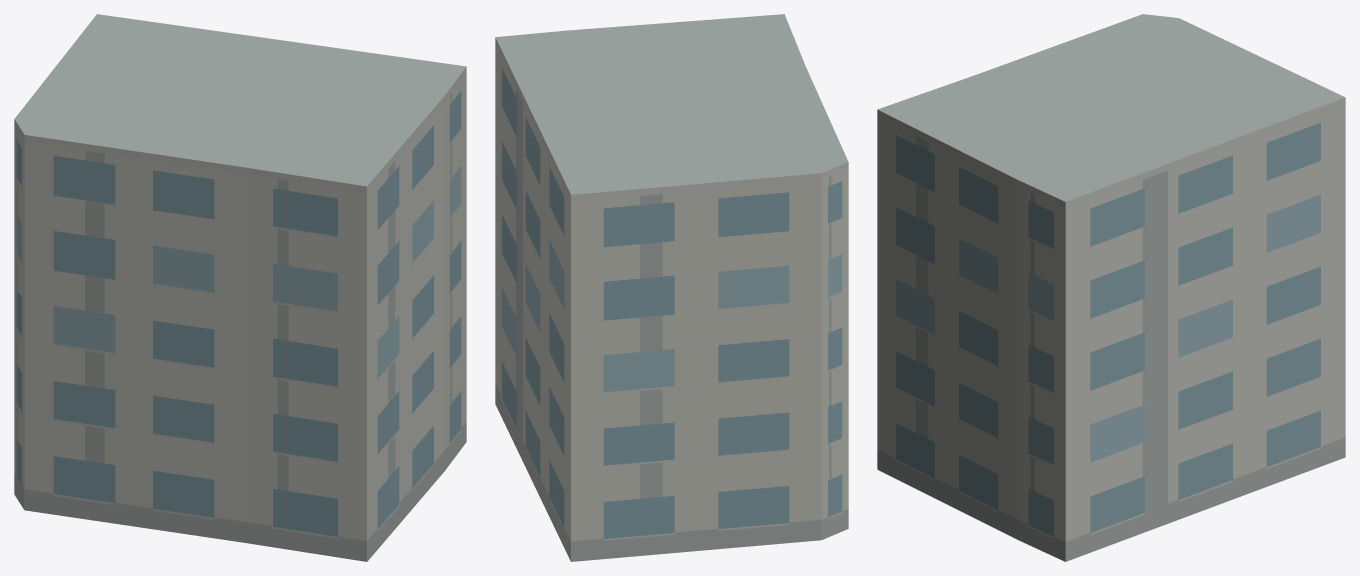
Rendered from survey-upis-32626351.glb.
3 views of the same model, side by side, from view 1: azimuth 30°, elevation 25°; view 2: azimuth 150°, elevation 25°; view 3: azimuth 270°, elevation 25° (orthographic). The views are drawn at different scales.
Parts seen in each view (by area): view 1: survey-upis-32626351.tmp; view 2: survey-upis-32626351.tmp; view 3: survey-upis-32626351.tmp.
Boxes of the visible parts, bbox=[...] form: survey-upis-32626351.tmp: bbox=[14, 14, 466, 561]; survey-upis-32626351.tmp: bbox=[495, 14, 848, 561]; survey-upis-32626351.tmp: bbox=[877, 14, 1345, 561].
Bounding box in the file's own units: 14.67 × 13.1 × 15.45.
